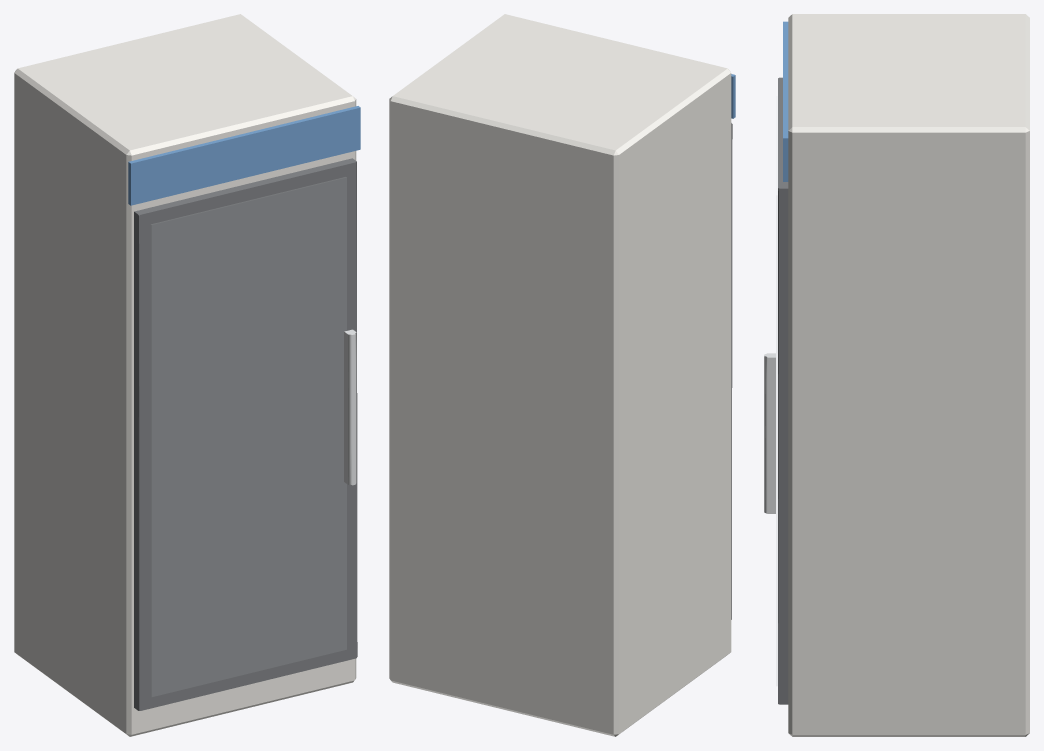
The model's file is fridge.glb.
3 views of the same model, side by side, from view 1: azimuth 30°, elevation 25°; view 2: azimuth 150°, elevation 25°; view 3: azimuth 270°, elevation 25° (orthographic). The views are drawn at different scales.
Parts seen in each view (by area): view 1: fridge_frame, fridge_cart_w, fridge_glass, fridge_flag_b, fridge_chrome; view 2: fridge_cart_w, fridge_frame; view 3: fridge_cart_w, fridge_frame, fridge_chrome, fridge_glass, fridge_flag_b.
Boxes of the visible parts, left/top/right/bottom form: fridge_frame: left=134, top=158, right=357, bottom=710; fridge_cart_w: left=14, top=14, right=356, bottom=736; fridge_glass: left=151, top=177, right=346, bottom=696; fridge_flag_b: left=128, top=106, right=360, bottom=205; fridge_chrome: left=344, top=329, right=356, bottom=485; fridge_cart_w: left=389, top=14, right=731, bottom=736; fridge_frame: left=731, top=123, right=732, bottom=619; fridge_cart_w: left=788, top=14, right=1029, bottom=736; fridge_frame: left=778, top=77, right=788, bottom=704; fridge_chrome: left=764, top=353, right=775, bottom=513; fridge_glass: left=776, top=96, right=777, bottom=685; fridge_flag_b: left=783, top=21, right=788, bottom=181.
Size of the model in its own units: 0.8 by 1.95 by 0.77.
